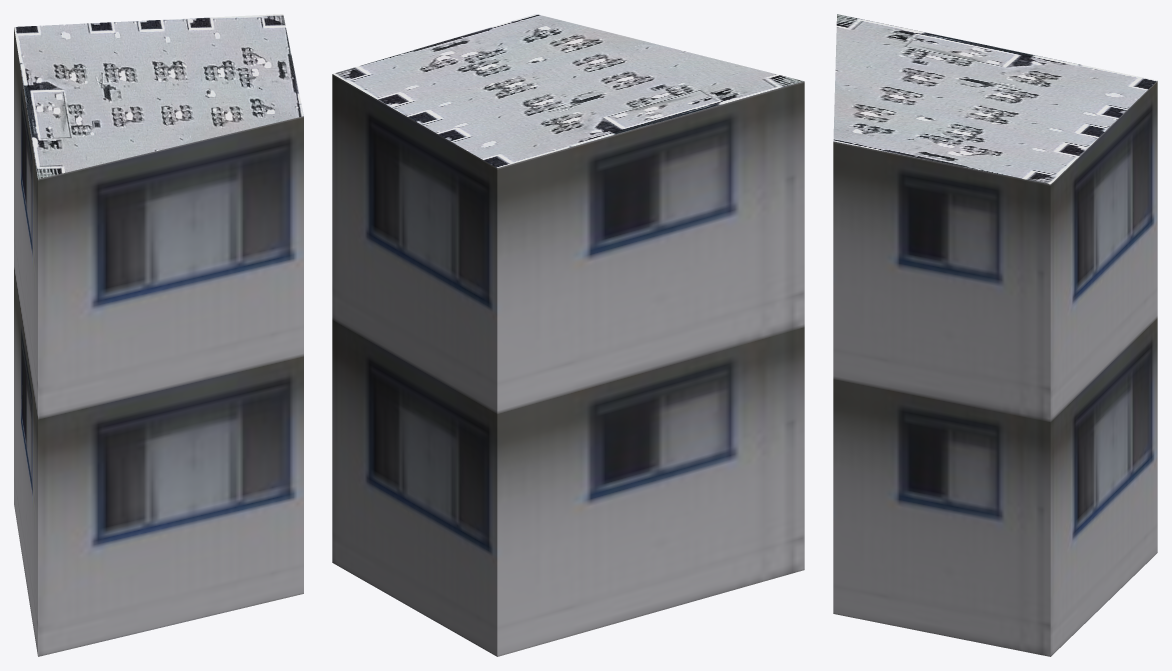
The model's file is ResTex__4574.fbx.
3 renders of one model, left to right at view 1: azimuth 30°, elevation 25°; view 2: azimuth 150°, elevation 25°; view 3: azimuth 270°, elevation 25°, orthographic. The views are drawn at different scales.
Parts seen in each view (by area): view 1: CityEngineMaterial_9_m, CityEngineMaterial_8_m; view 2: CityEngineMaterial_9_m, CityEngineMaterial_8_m; view 3: CityEngineMaterial_9_m, CityEngineMaterial_8_m.
Boxes of the visible parts, x1=… form: CityEngineMaterial_9_m: x1=14, y1=28, x2=303, y2=656; CityEngineMaterial_8_m: x1=14, y1=14, x2=303, y2=179; CityEngineMaterial_9_m: x1=332, y1=74, x2=804, y2=656; CityEngineMaterial_8_m: x1=333, y1=14, x2=803, y2=167; CityEngineMaterial_9_m: x1=833, y1=81, x2=1157, y2=656; CityEngineMaterial_8_m: x1=833, y1=14, x2=1156, y2=184.
Bounding box in the file's own units: 4.64 × 6 × 3.73.
Materials: 2 (2 with a texture image).
